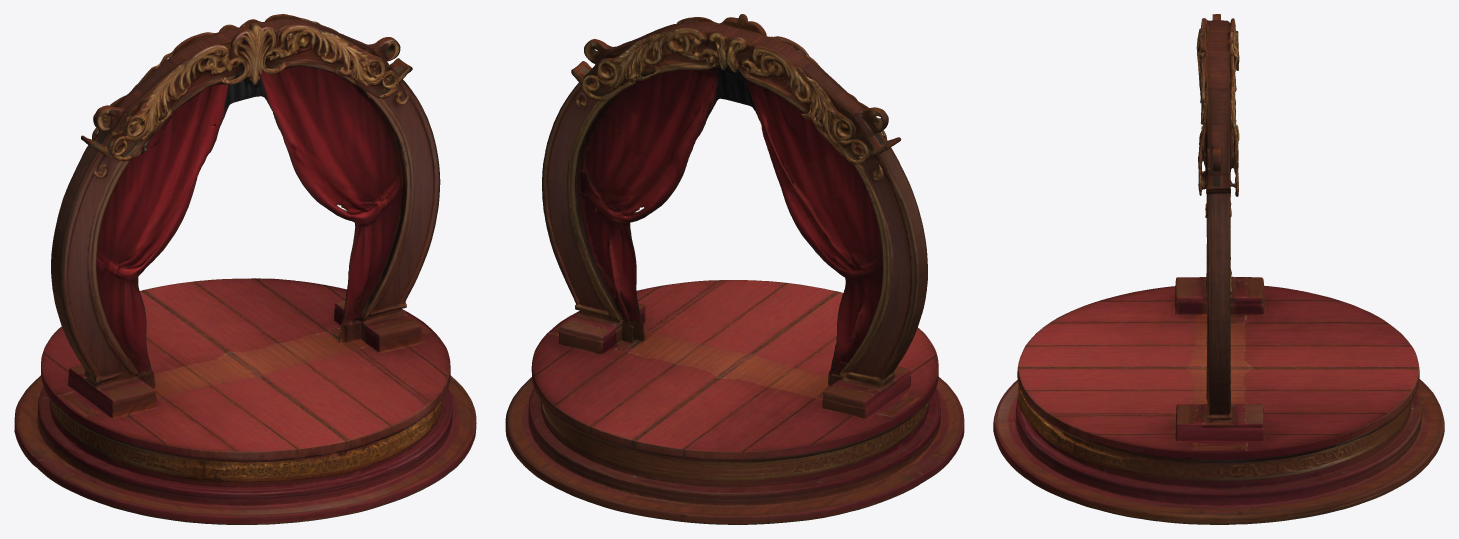
The model's file is Meshy_AI_The_Wooden_Stage_0220192423_texture.glb.
The picture shows the model from 3 angles, left to right: view 1: azimuth 30°, elevation 25°; view 2: azimuth 150°, elevation 25°; view 3: azimuth 270°, elevation 25°; orthographic projection. The views are drawn at different scales.
Size of the model in its own units: 2 by 1.96 by 2.
Materials: 1 (1 with a texture image).
